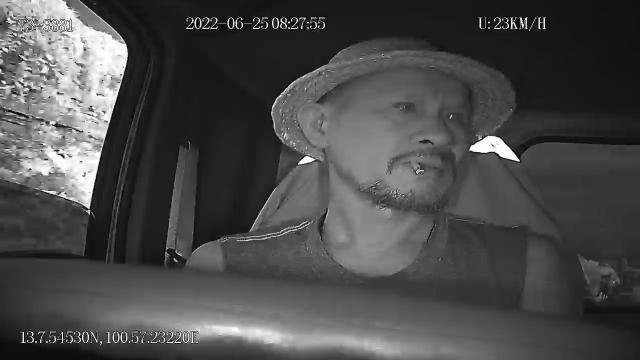SafeDriving: (382, 90, 422, 121)
Smoking: (410, 158, 426, 176)
